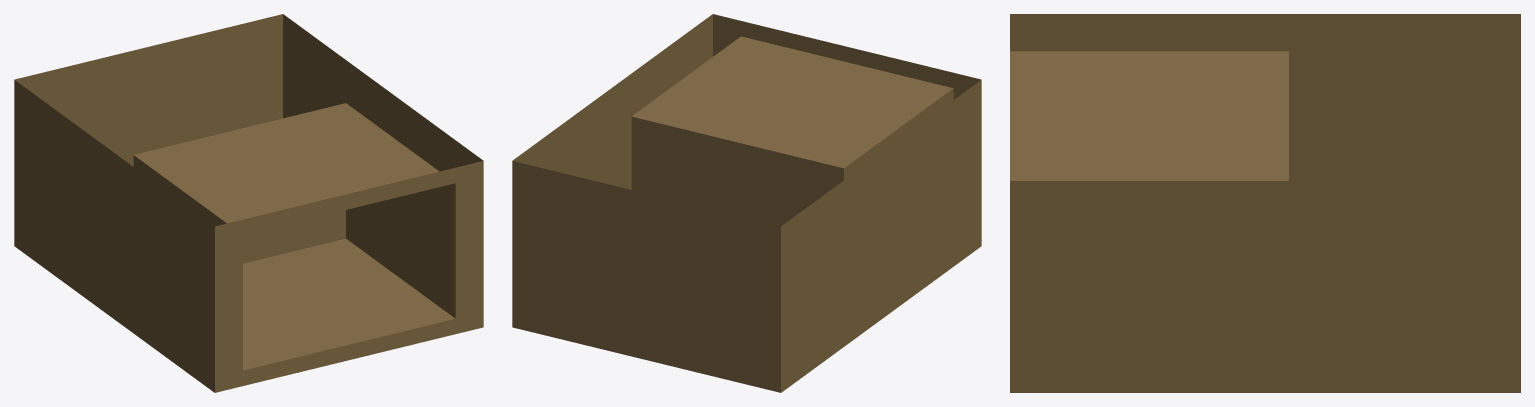
File: Itr_Desk_Drawer_Bottom_01.FBX
The picture shows the model from 3 angles, left to right: view 1: azimuth 30°, elevation 25°; view 2: azimuth 150°, elevation 25°; view 3: azimuth 270°, elevation 25°; orthographic projection. The views are drawn at different scales.
Visible parts, largest first — view 1: Itr_Desk_Drawer_Bottom_01; view 2: Itr_Desk_Drawer_Bottom_01; view 3: Itr_Desk_Drawer_Bottom_01.
Boxes of the visible parts, x1,y1,x2,y2 form: Itr_Desk_Drawer_Bottom_01: (14, 14, 483, 392); Itr_Desk_Drawer_Bottom_01: (512, 14, 981, 392); Itr_Desk_Drawer_Bottom_01: (1010, 14, 1520, 392).
Bounding box in the file's own units: 18.22 × 10.79 × 23.55.
